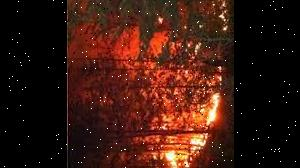fire: (156, 70, 228, 168)
